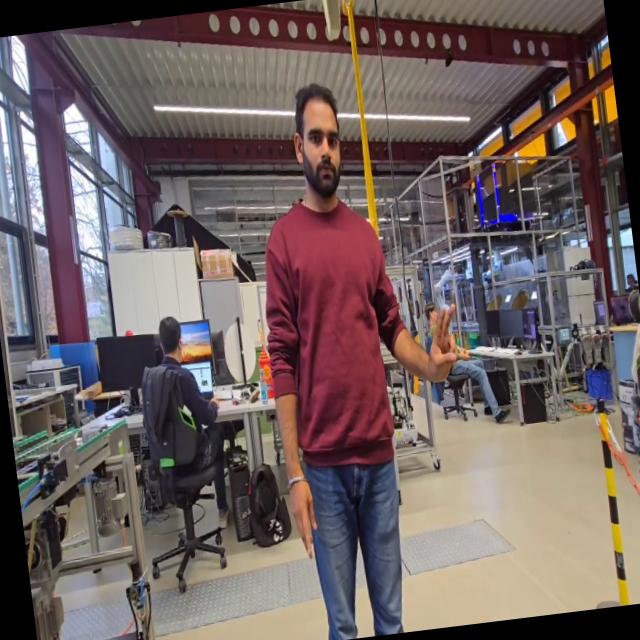v_sign: (421, 298, 465, 392)
